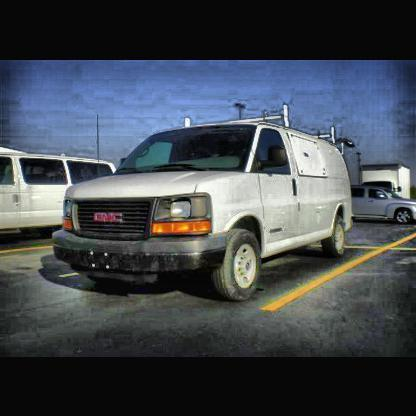GMC Savana Van 2012: (51, 105, 358, 305)
